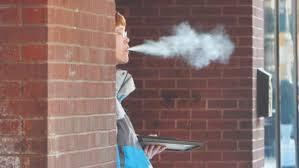smoke: (145, 32, 231, 62)
